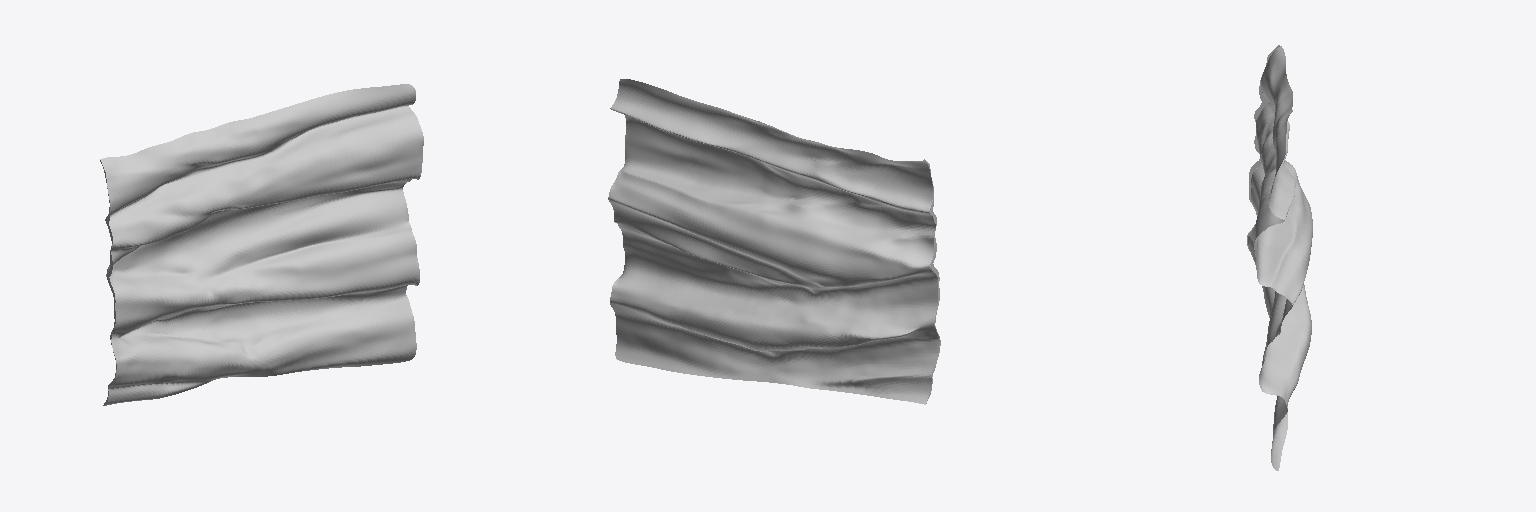
Rendered from SM_Curtain_02_HighPoly_09.OBJ.
3 renders of one model, left to right at view 1: azimuth 30°, elevation 25°; view 2: azimuth 150°, elevation 25°; view 3: azimuth 270°, elevation 25°, orthographic.
Visible parts, largest first — view 1: Group20824; view 2: Group20824; view 3: Group20824.
Part boxes in pixels (left/top/right/bottom): Group20824: left=100, top=84, right=423, bottom=405; Group20824: left=608, top=79, right=940, bottom=404; Group20824: left=1247, top=45, right=1312, bottom=470.
Bounding box in the file's own units: 2.59 × 2.25 × 0.4773.